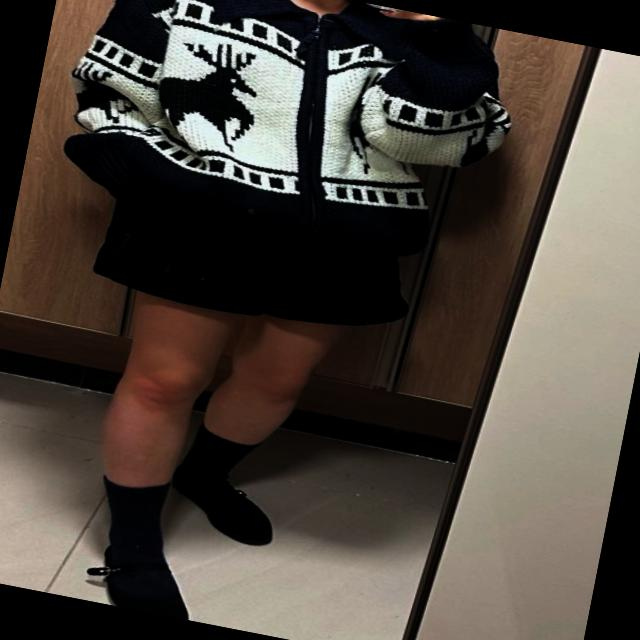cardigan: (44, 0, 526, 291)
skirt: (90, 189, 423, 346)
